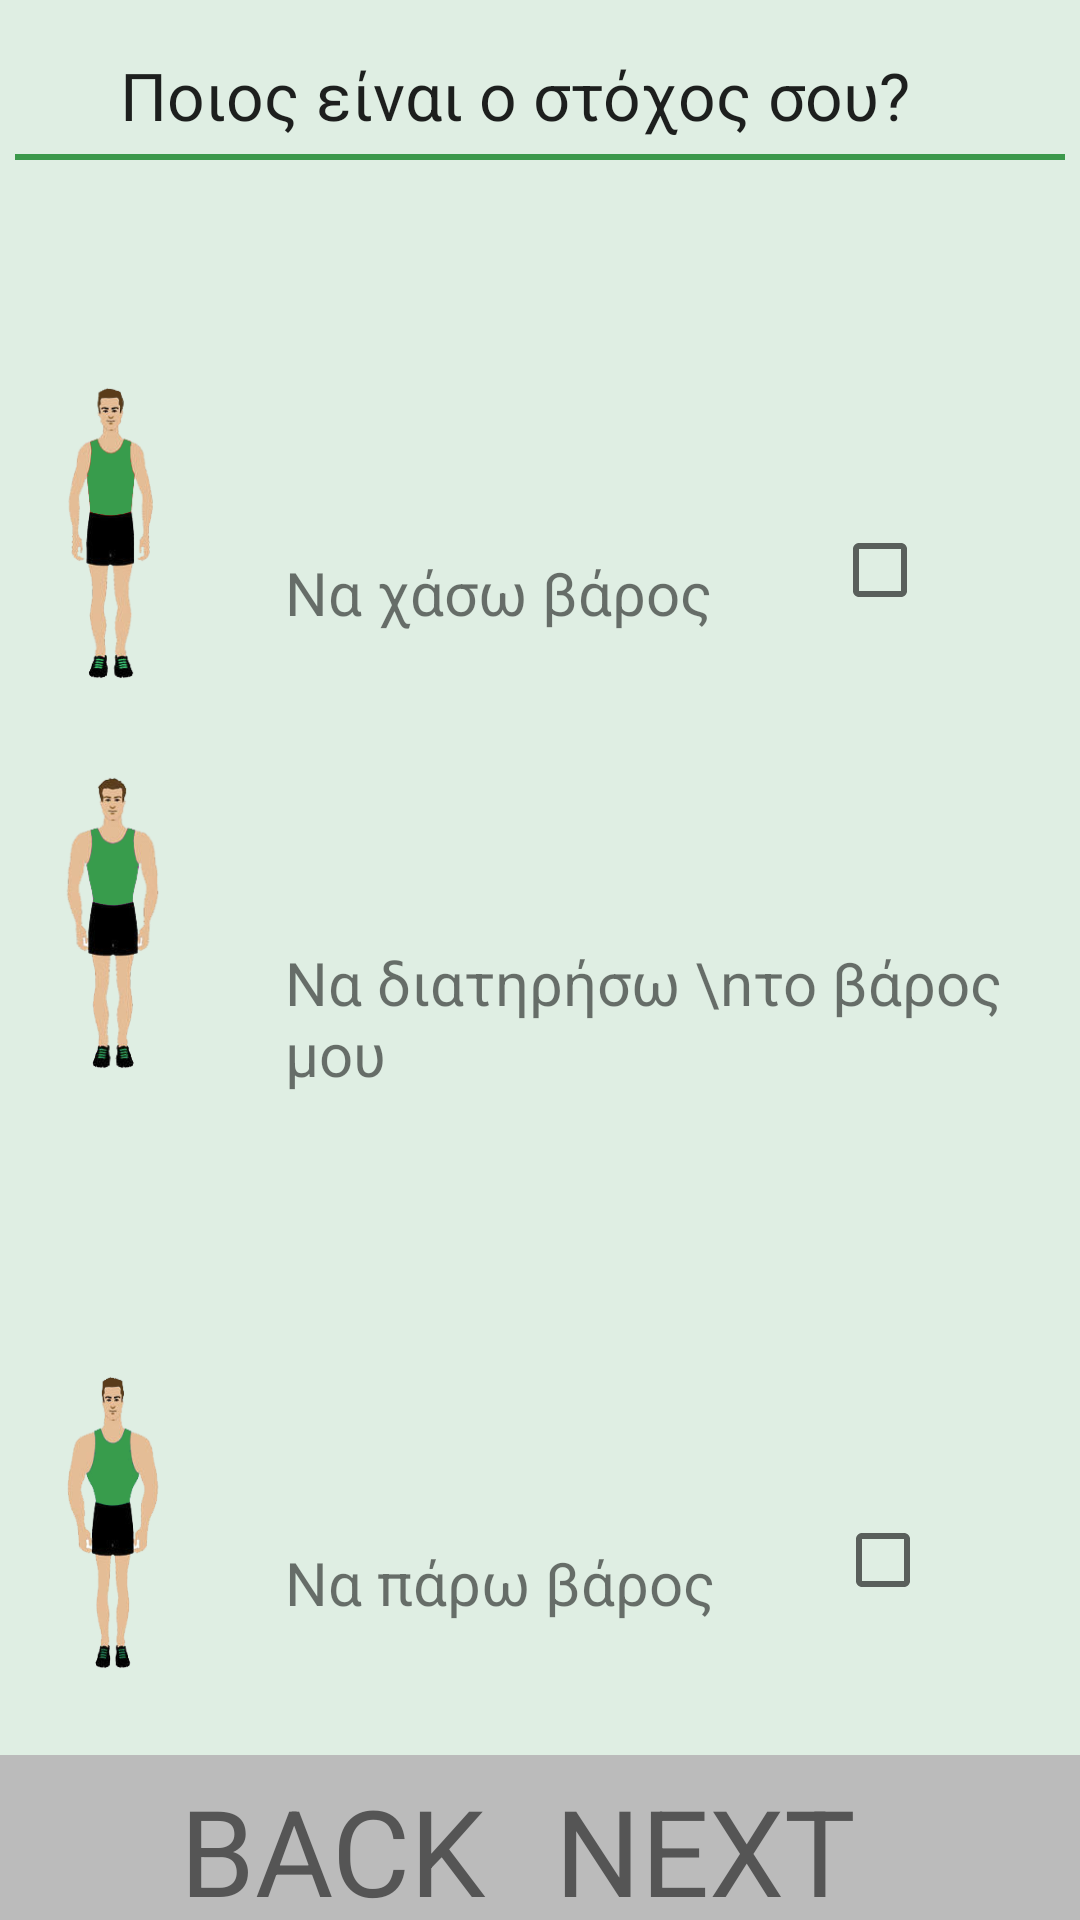

Named icons in this screenshot (1080px x 1920px) and their bounding boxes, (x1, y1, x2, y2):
image of average person: (67, 778, 158, 1068)
image of strong person: (68, 1377, 158, 1668)
image of thin person: (69, 388, 153, 678)
